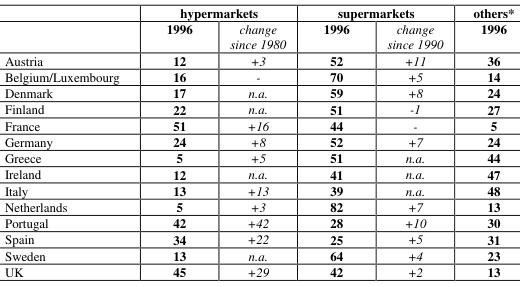table: (3, 3, 513, 280)
table column: (3, 3, 142, 280), (210, 3, 303, 280), (367, 3, 457, 280), (142, 3, 210, 280), (303, 3, 367, 280), (457, 3, 513, 280)
table column header: (3, 3, 513, 51)
table row: (3, 20, 513, 51), (3, 3, 513, 20), (3, 51, 513, 68), (3, 100, 513, 117), (3, 165, 513, 182), (3, 246, 513, 263), (3, 263, 513, 280), (3, 68, 513, 84), (3, 84, 513, 100), (3, 117, 513, 133), (3, 133, 513, 149), (3, 149, 513, 165), (3, 182, 513, 198), (3, 198, 513, 214), (3, 214, 513, 230), (3, 230, 513, 246)
table spanning cell: (142, 3, 303, 20), (457, 3, 513, 51), (303, 3, 457, 20)
